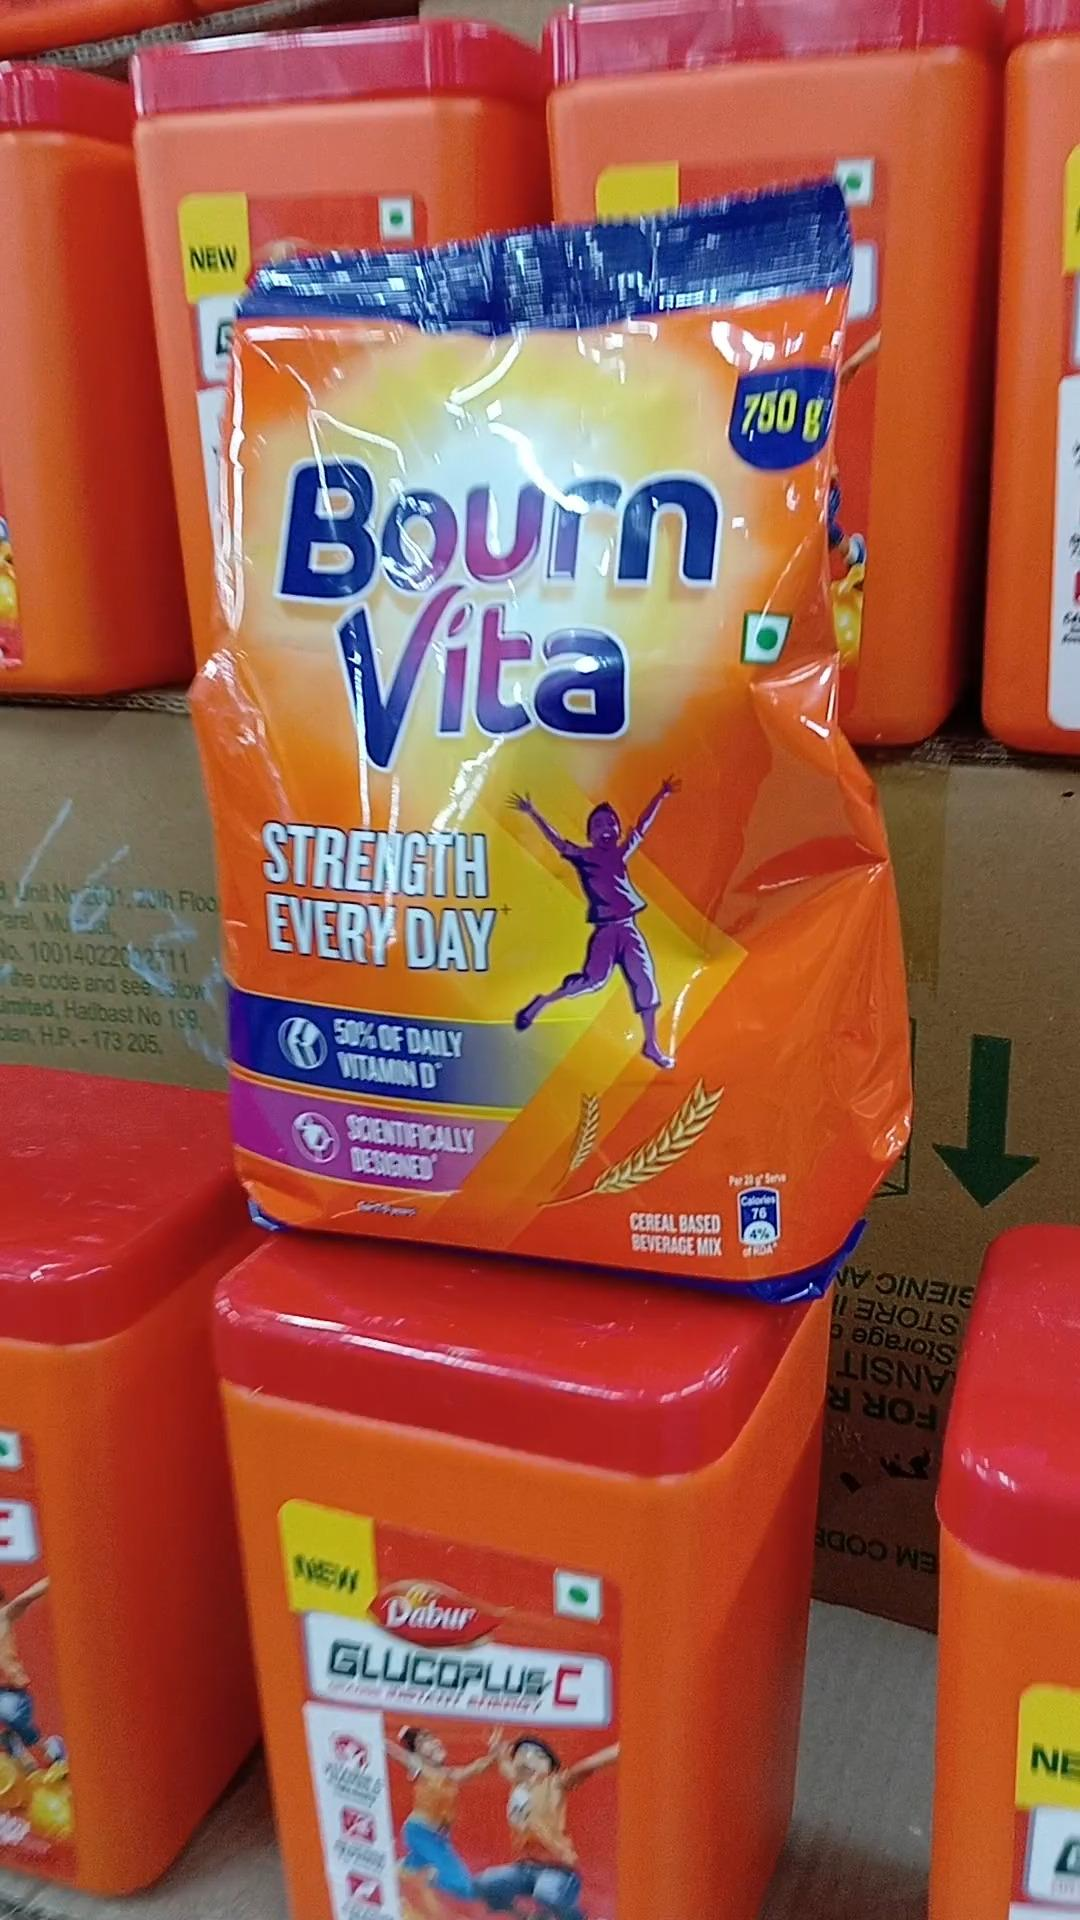BOURN_VITA_750_G_POUCH: (211, 169, 864, 1294)
